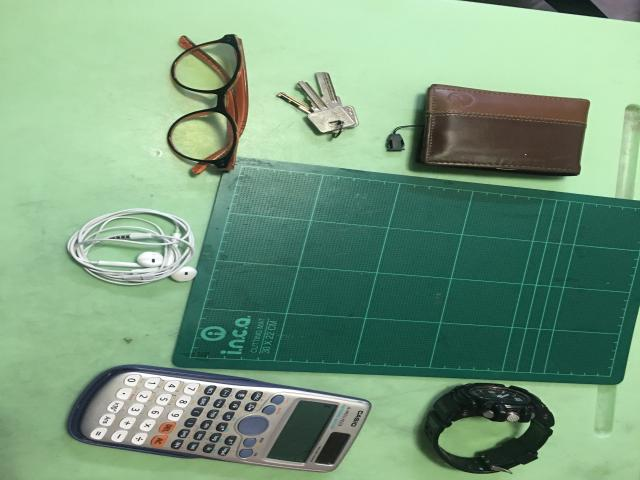Glasses: (167, 35, 247, 173)
Keys: (278, 72, 358, 138)
Wallet: (420, 84, 590, 176)
Watch: (425, 383, 555, 473)
wire: (67, 209, 195, 285)
